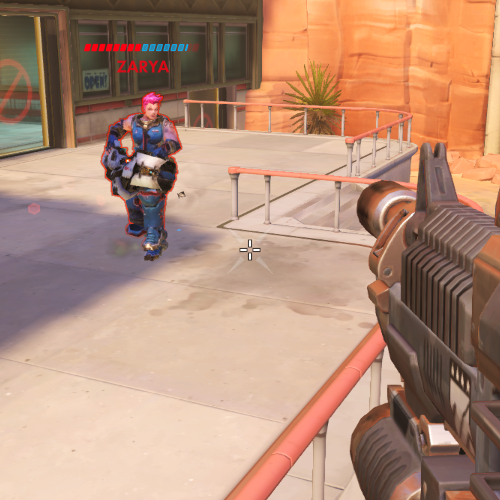hpbar: (83, 43, 200, 52)
